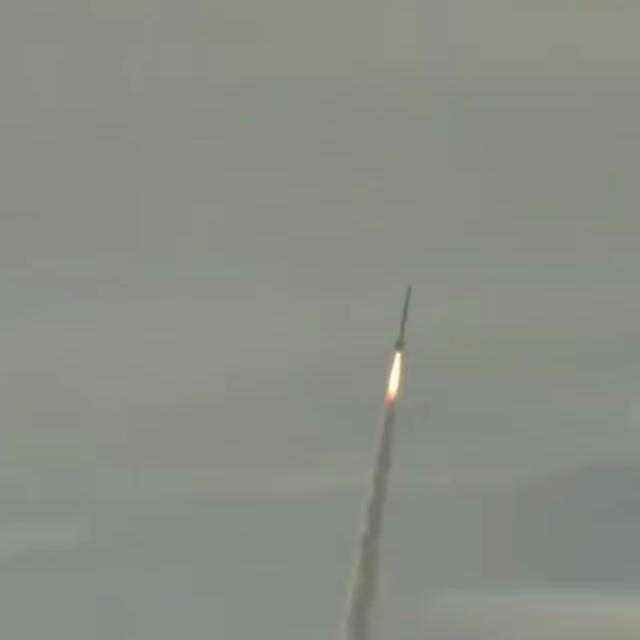smoke_trail_with_rocket: (341, 288, 411, 640)
